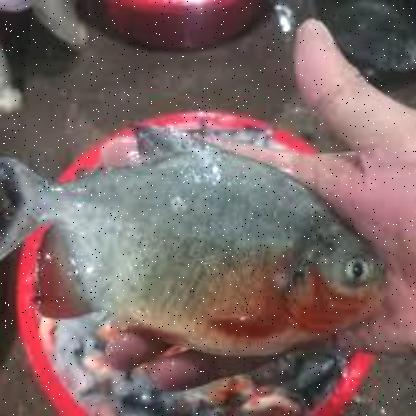ikan-pacu: (6, 134, 384, 350)
